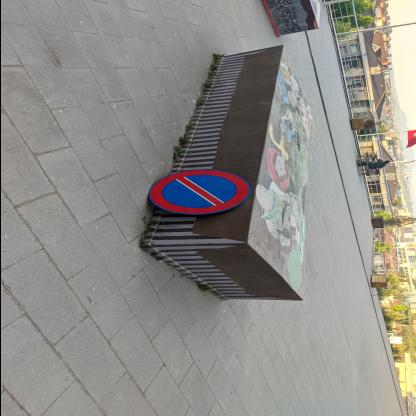No Waiting: (149, 170, 251, 216)
